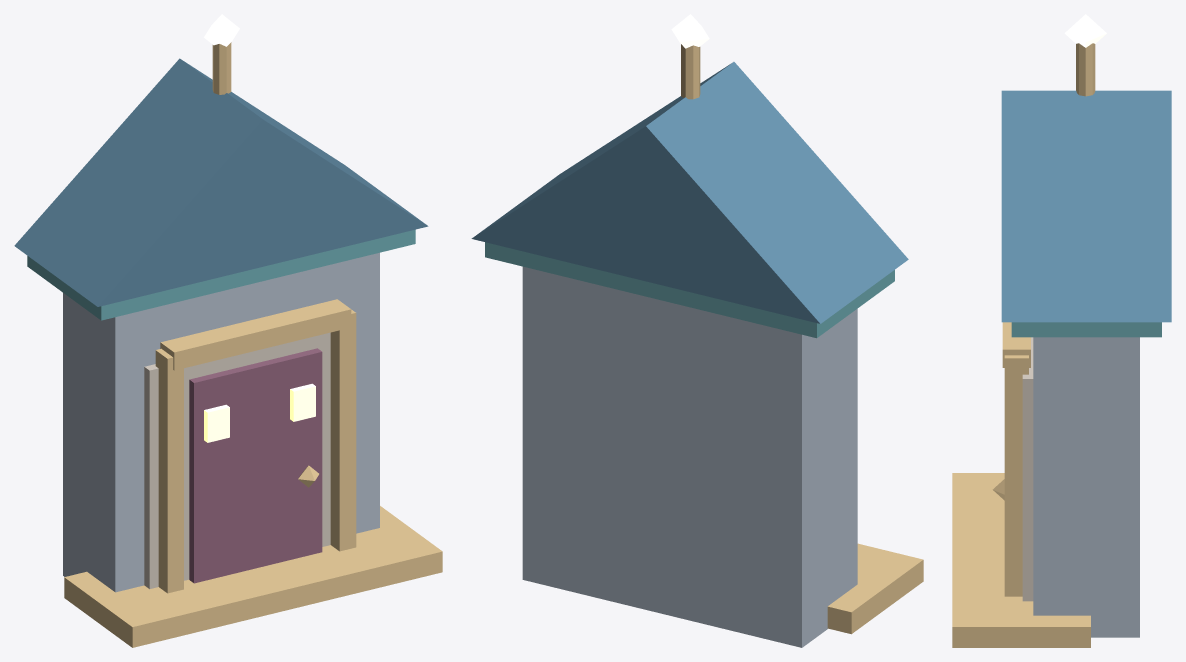
The model's file is mini-puerta-v9.glb.
The picture shows the model from 3 angles, left to right: view 1: azimuth 30°, elevation 25°; view 2: azimuth 150°, elevation 25°; view 3: azimuth 270°, elevation 25°; orthographic projection. The views are drawn at different scales.
Bounding box in the file's own units: 4 × 6.34 × 2.26.
